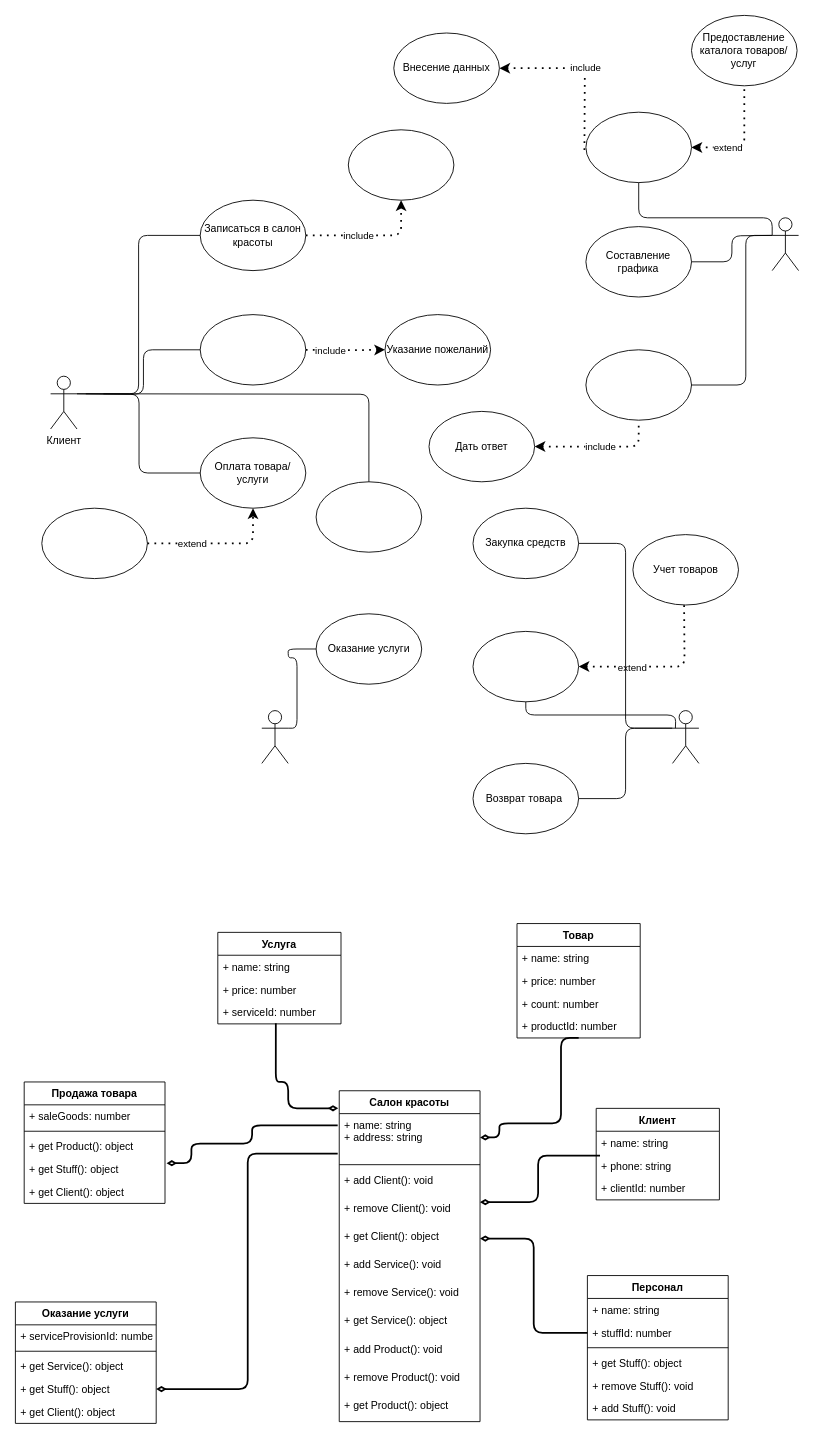
Some shapes in this 839 by 1441 pixel diagram are drawn without their labels. The shapes that lost their labels are listed below. From the top down, each one's centre as x and y in pixels, then its label:
At point 400,164: "Подтверждение данных".
At point 638,147: "Приём заявок".
At point 785,244: "Администратор".
At point 252,349: "Выбор товара/услуги".
At point 638,384: "Анализ отзывов и пожеланий".
At point 368,516: "Оставить пожелание/отзыв".
At point 94,543: "Выбор способа оплаты".
At point 525,666: "Составление списка необходимых позиций".
At point 274,736: "Мастер".
At point 685,736: "Менеджер по закупкам".
